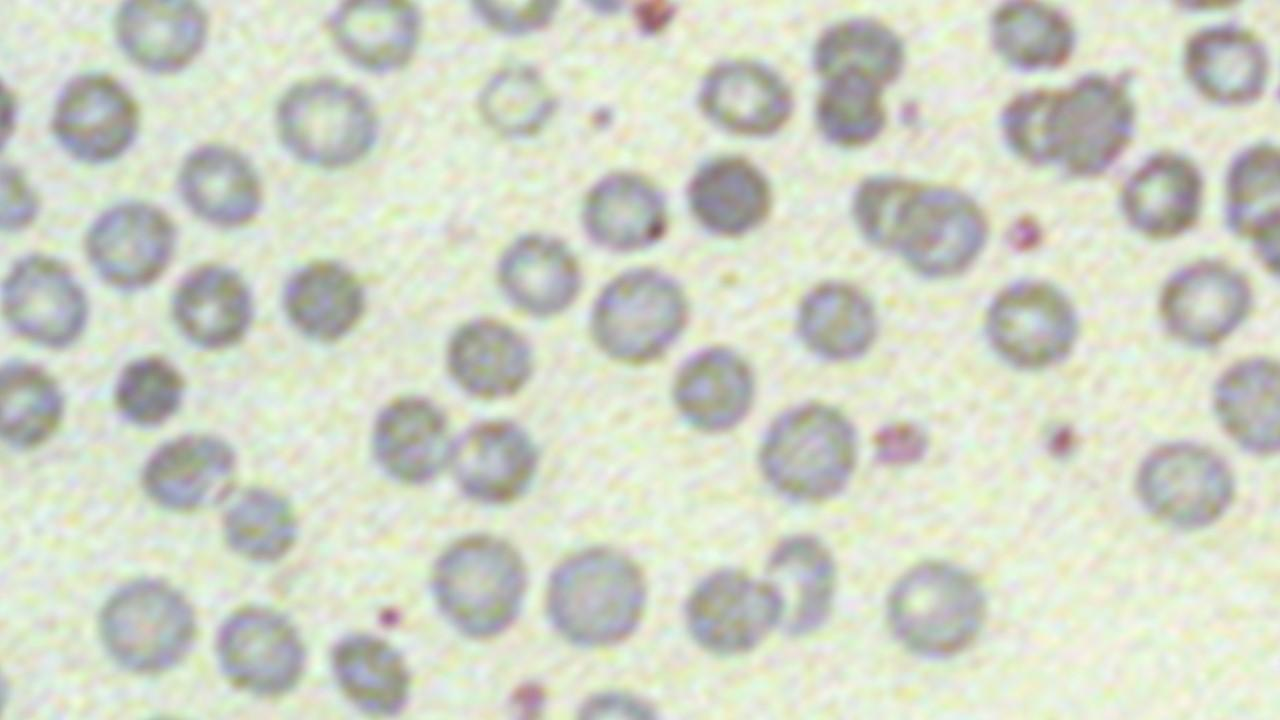RBC: (858, 0, 1278, 321), (537, 538, 652, 654), (423, 530, 532, 644), (584, 259, 696, 367), (977, 271, 1087, 377), (674, 555, 784, 659), (442, 410, 547, 513), (892, 177, 993, 284), (1044, 69, 1140, 181), (804, 9, 910, 109), (1149, 254, 1259, 350), (690, 49, 802, 141), (754, 525, 842, 642), (44, 66, 142, 171), (0, 245, 93, 353), (170, 135, 268, 233), (1114, 143, 1210, 243), (573, 164, 675, 258), (364, 387, 455, 492), (440, 310, 539, 406), (666, 338, 760, 439), (489, 226, 588, 321), (1177, 19, 1277, 113), (165, 256, 260, 354), (844, 164, 934, 263), (790, 274, 882, 370), (1206, 346, 1280, 461), (983, 0, 1083, 78), (809, 63, 893, 154), (993, 80, 1073, 173), (1219, 133, 1279, 246), (1247, 193, 1279, 301)
